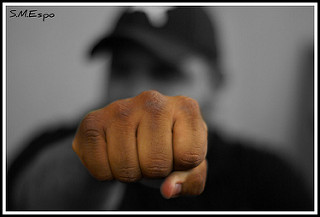fist: (78, 93, 212, 192)
